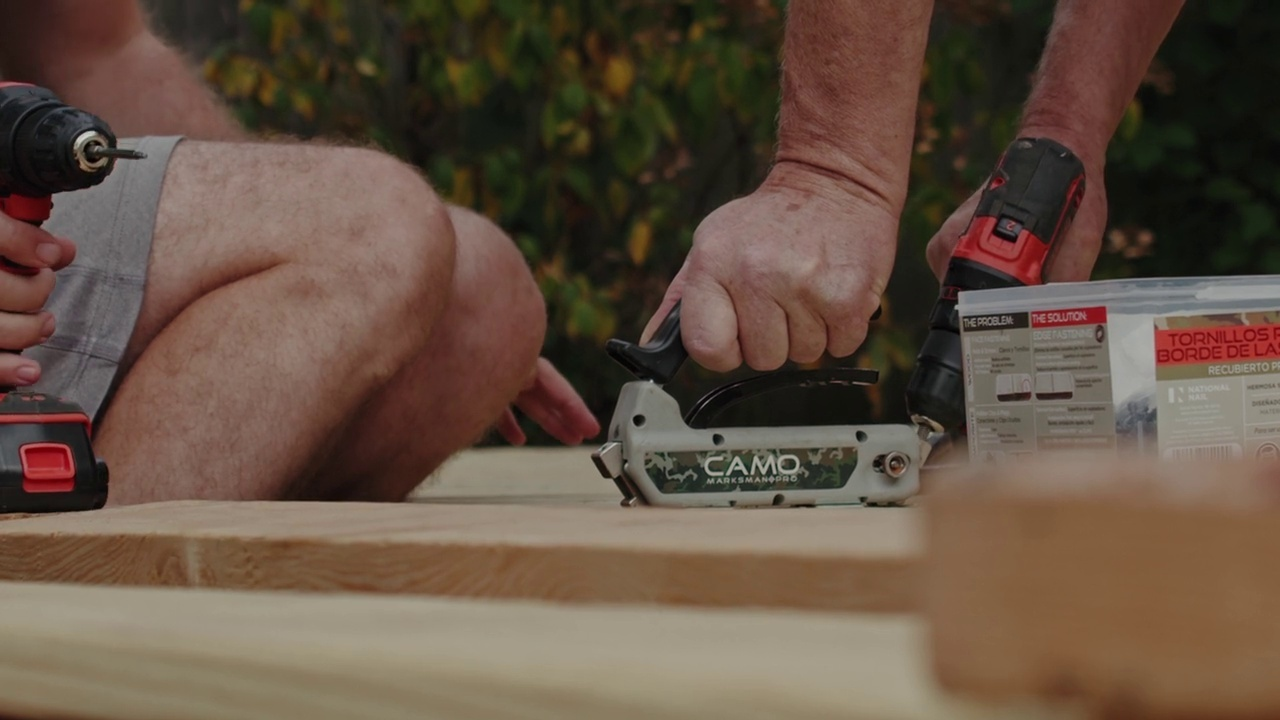driller: (1, 72, 150, 521), (903, 133, 1091, 445)
